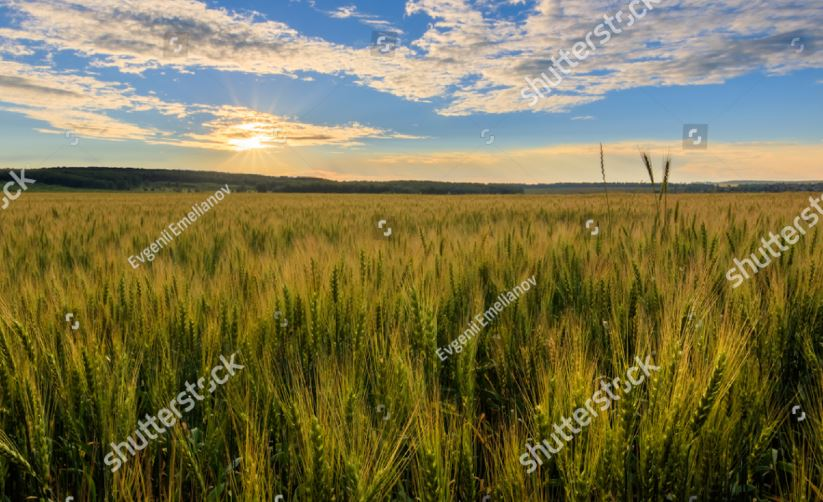Wheat: (278, 294, 769, 449)
